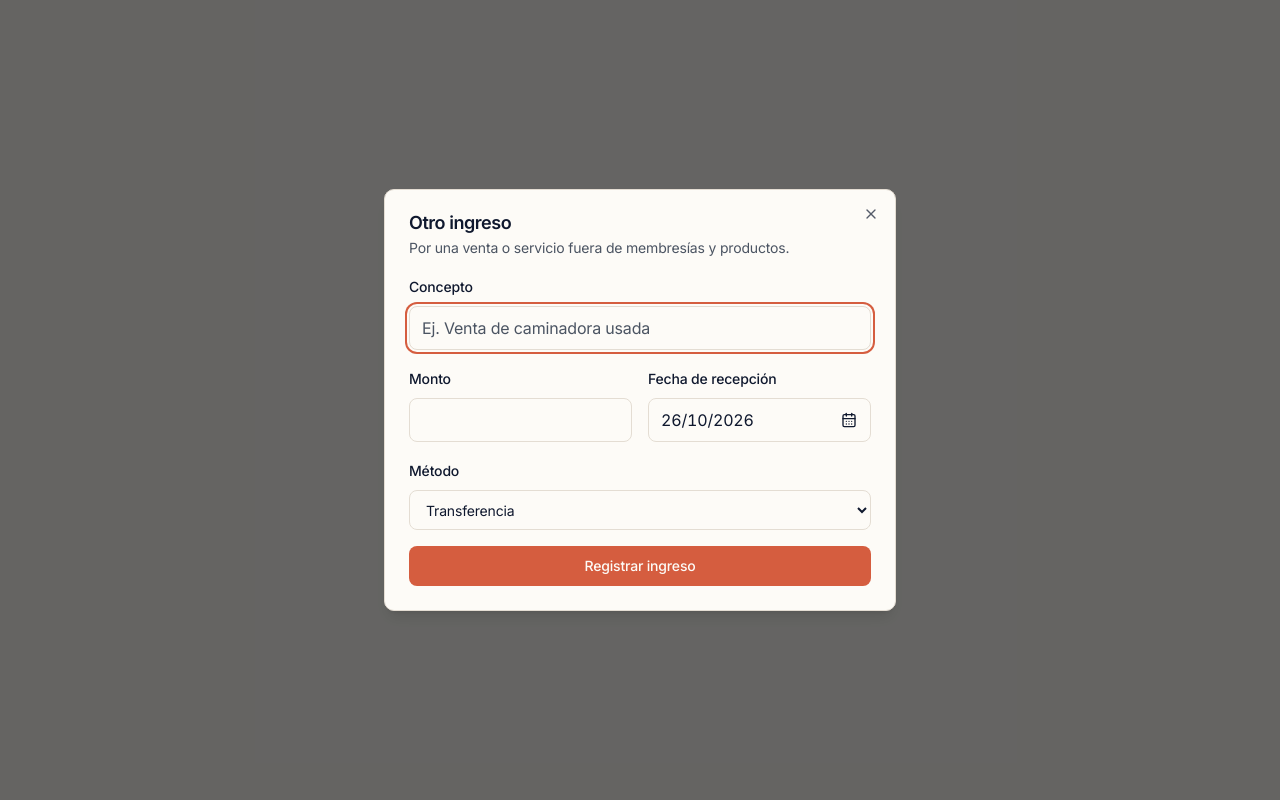
Test: OtherIncomeDialog › rechaza cero y conceptos vacíos
Type "0" into the number field labelled "Monto" at {"x": 520, "y": 420}, box [409,398,632,442]
Replace the text in the field labelled "Fecha de recepción" with "2026-08-23" at {"x": 760, "y": 420}, box [648,398,871,442]
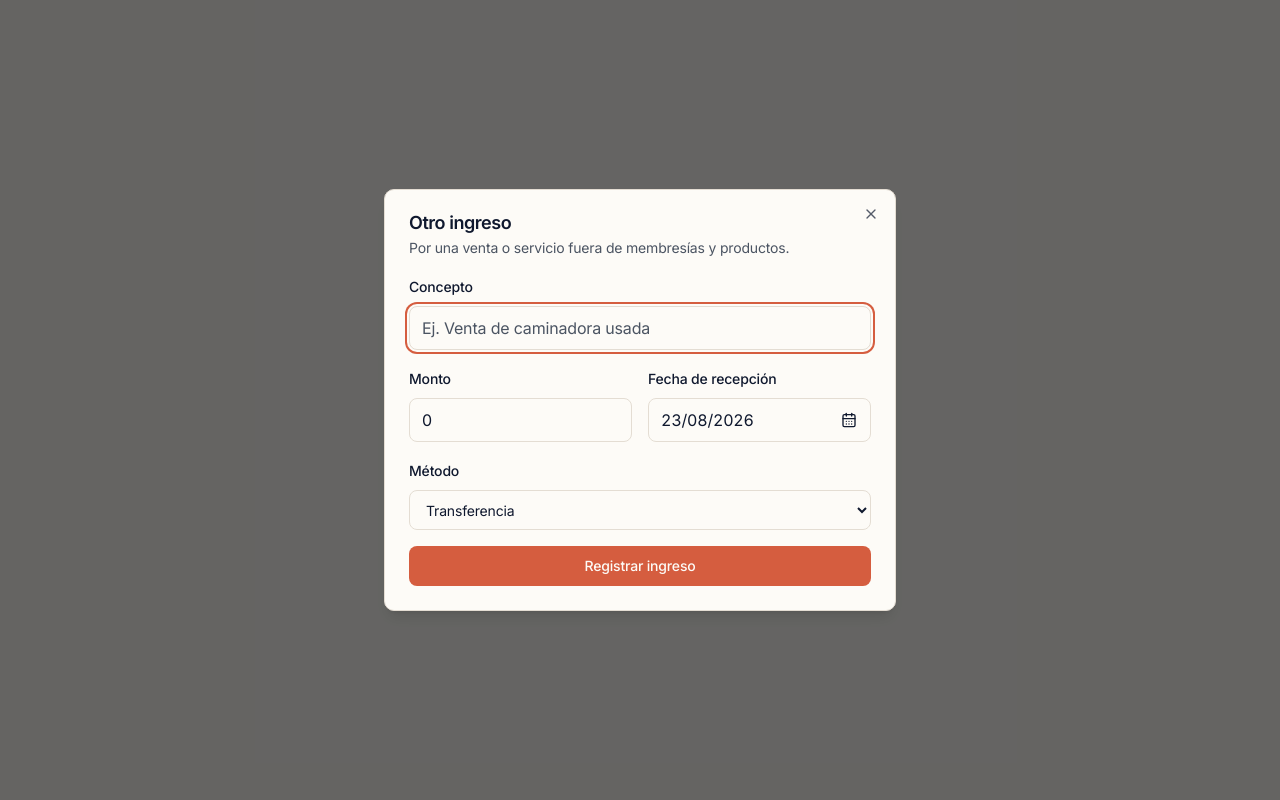
Type "Venta de caminadora usada" into the field labelled "Concepto" at {"x": 640, "y": 328}, box [409,306,871,350]
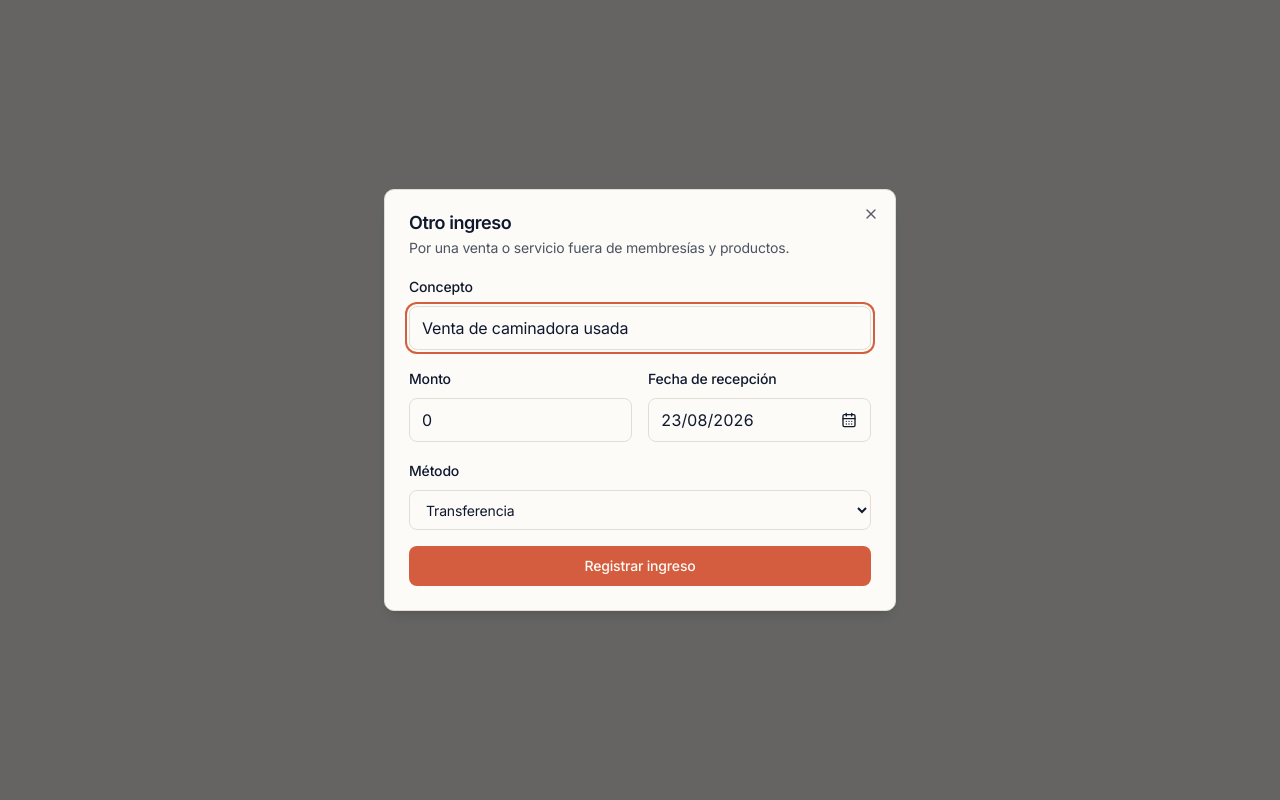
Click the button "Registrar ingreso" at {"x": 640, "y": 566}, box [409,546,871,586]
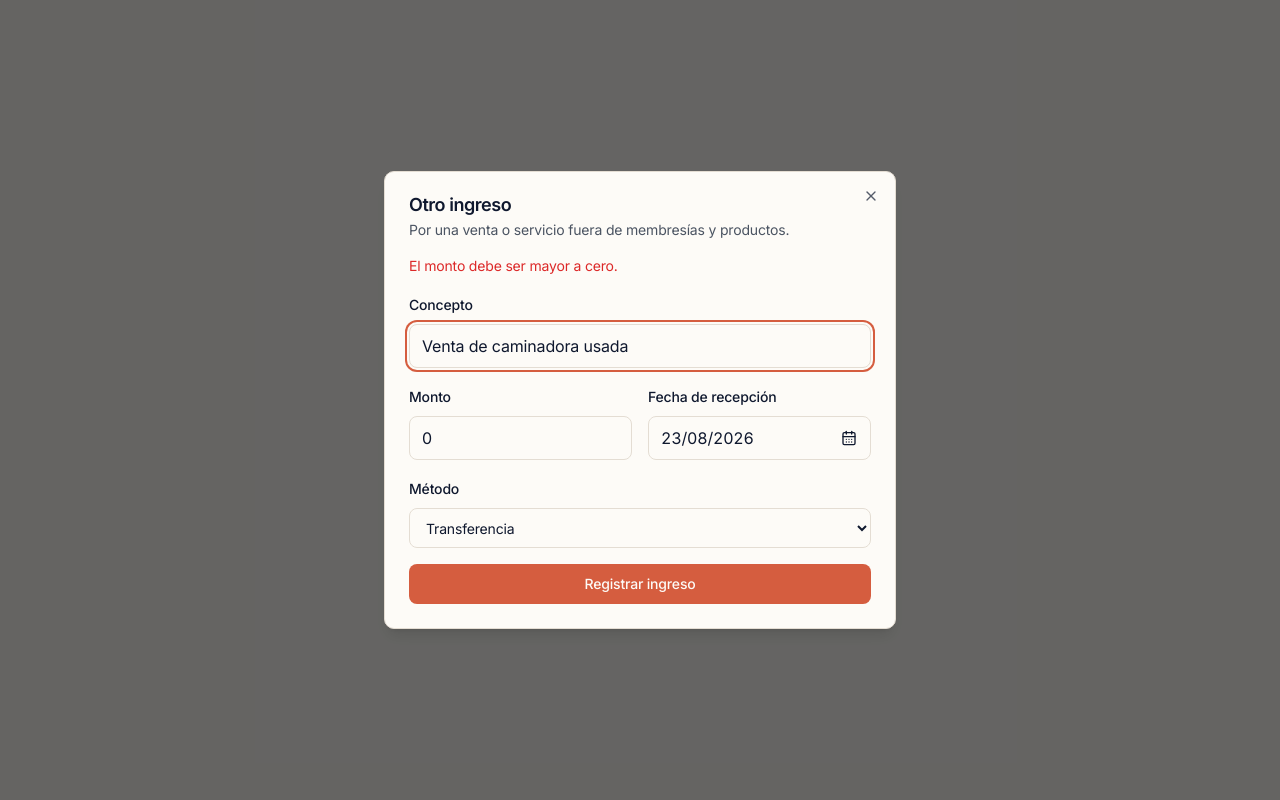
Check: the message shows "mayor a cero", box [409,257,618,274]
Replace the text in the number field labelled "Monto" with "1.10" at {"x": 520, "y": 438}, box [409,416,632,460]
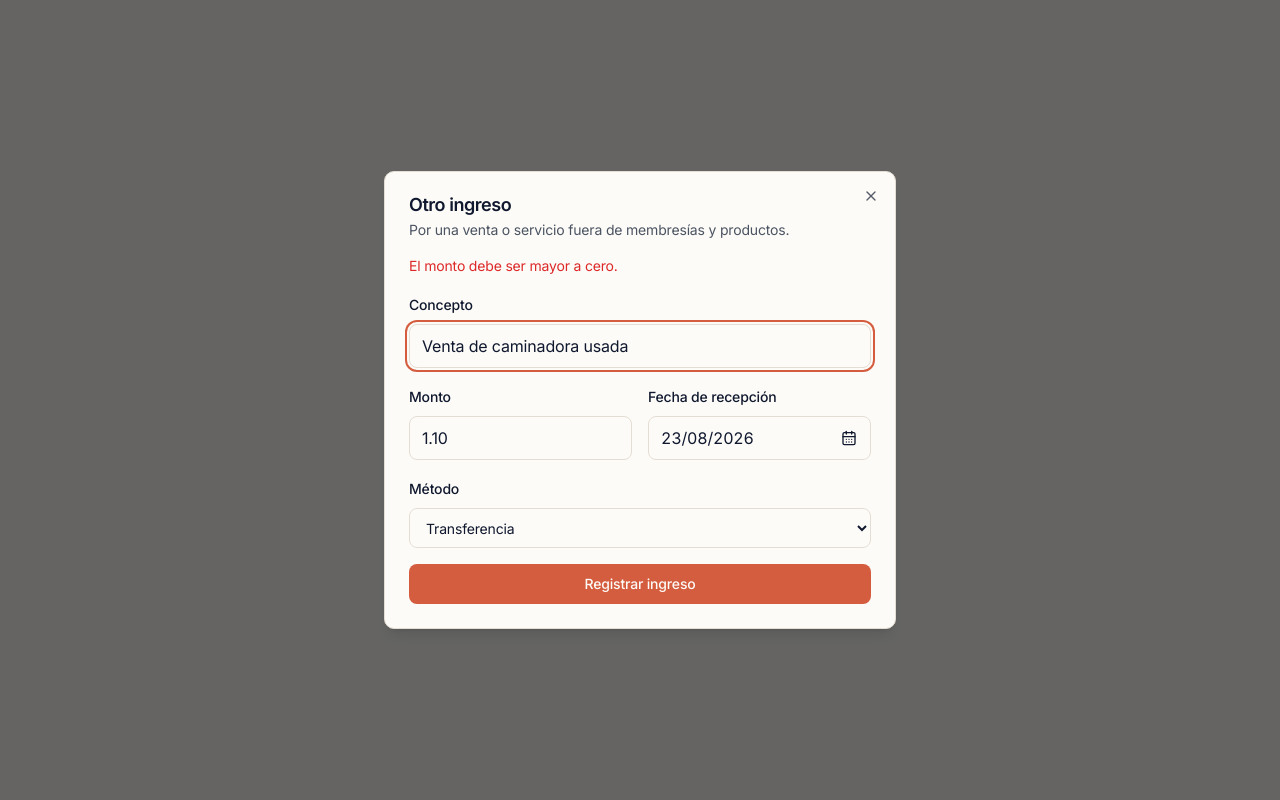
Clear the field labelled "Concepto" at {"x": 640, "y": 346}, box [409,324,871,368]
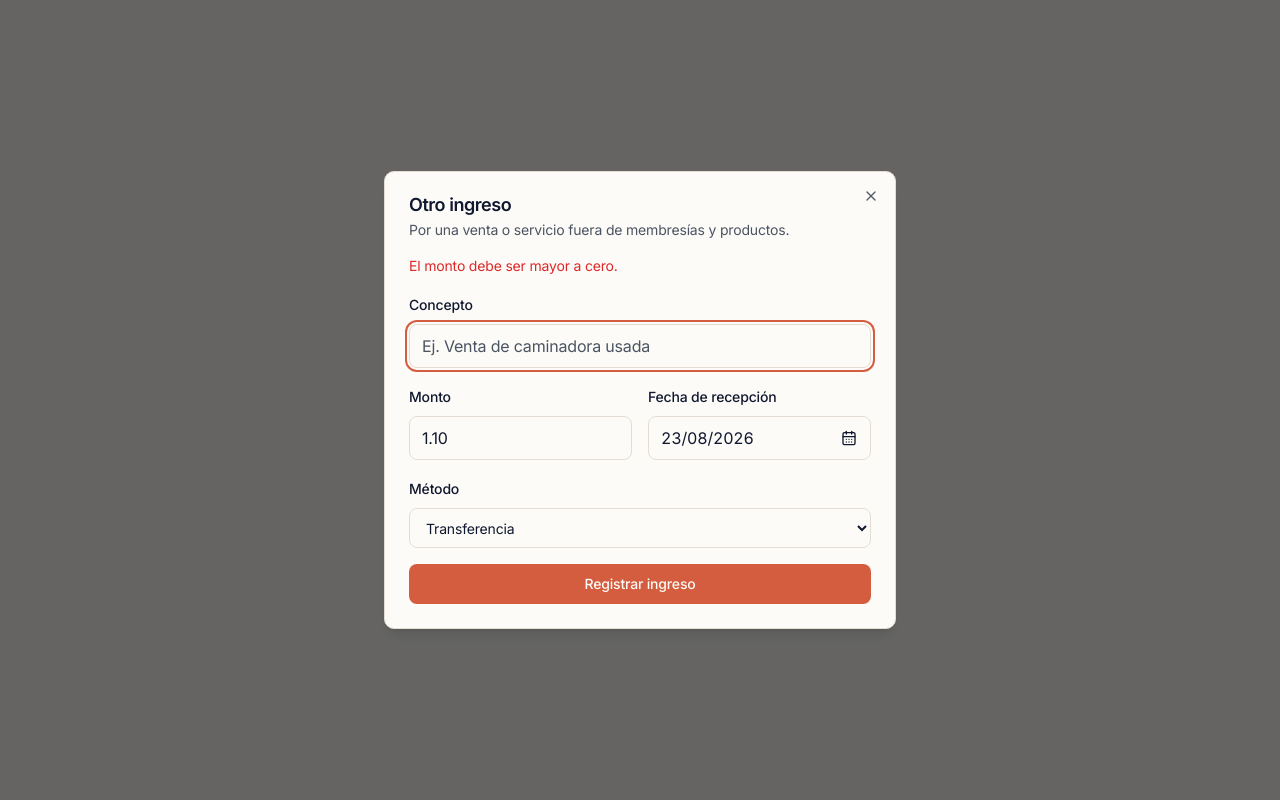
Click the button "Registrar ingreso" at {"x": 640, "y": 584}, box [409,564,871,604]
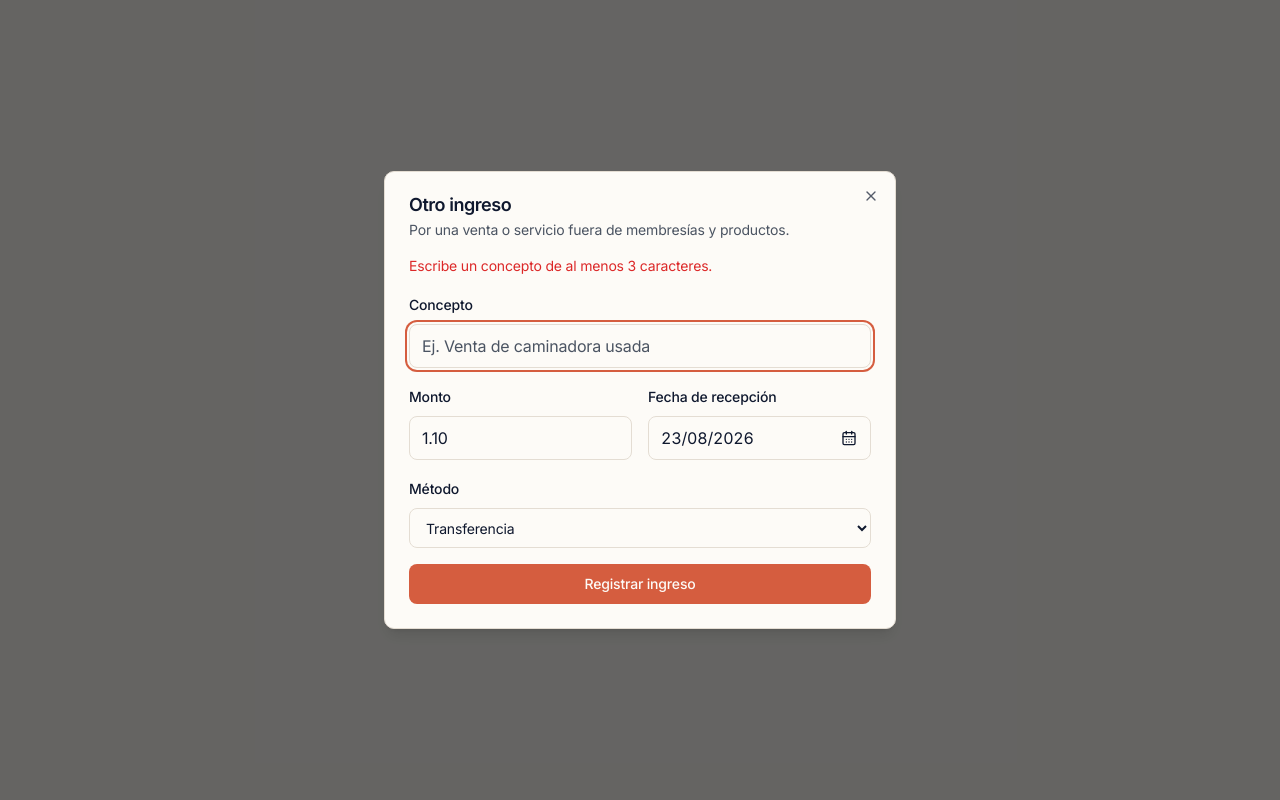
Check: the message shows "concepto", box [409,257,712,274]
